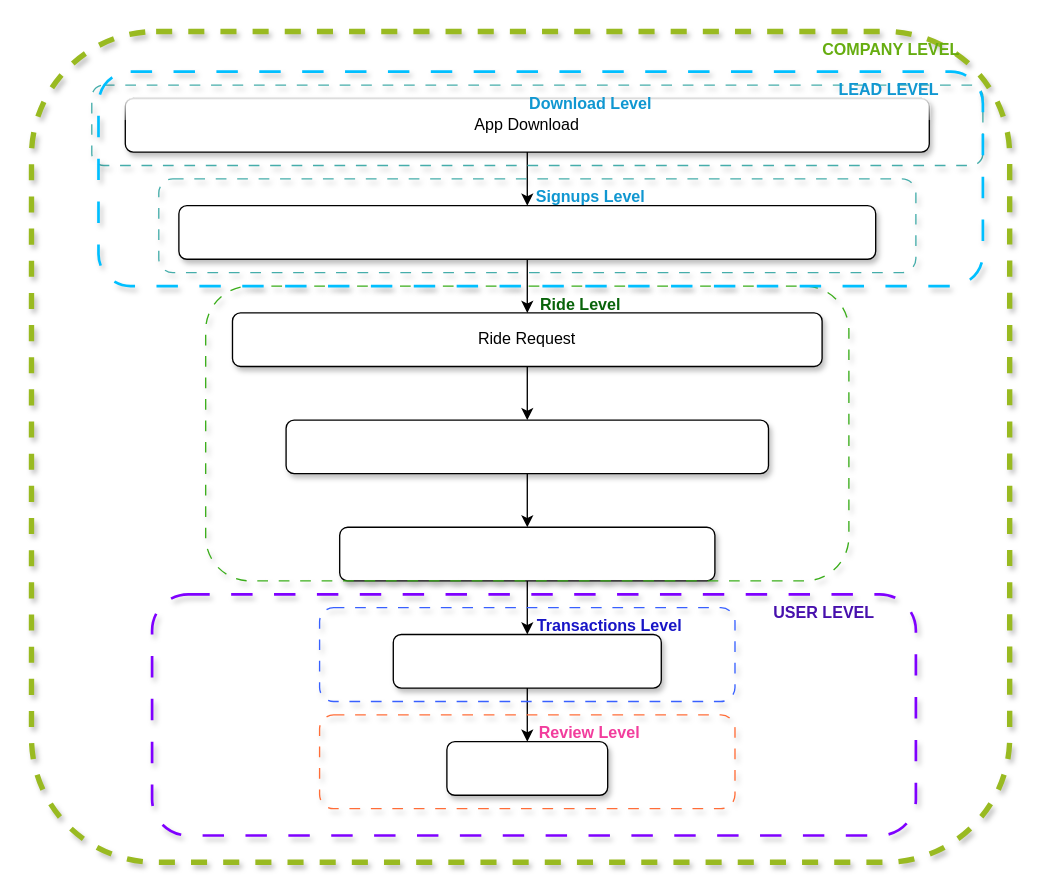
The diagram is 1043 pixels wide and 896 high, and some of its shapes have lost their labels. The centre of each missing label's shape, as x and y in pixels:
Driver Acceptance: point (528, 448)
Payment: point (528, 662)
Review: point (528, 770)
Ride: point (528, 555)
Signup: point (528, 234)
